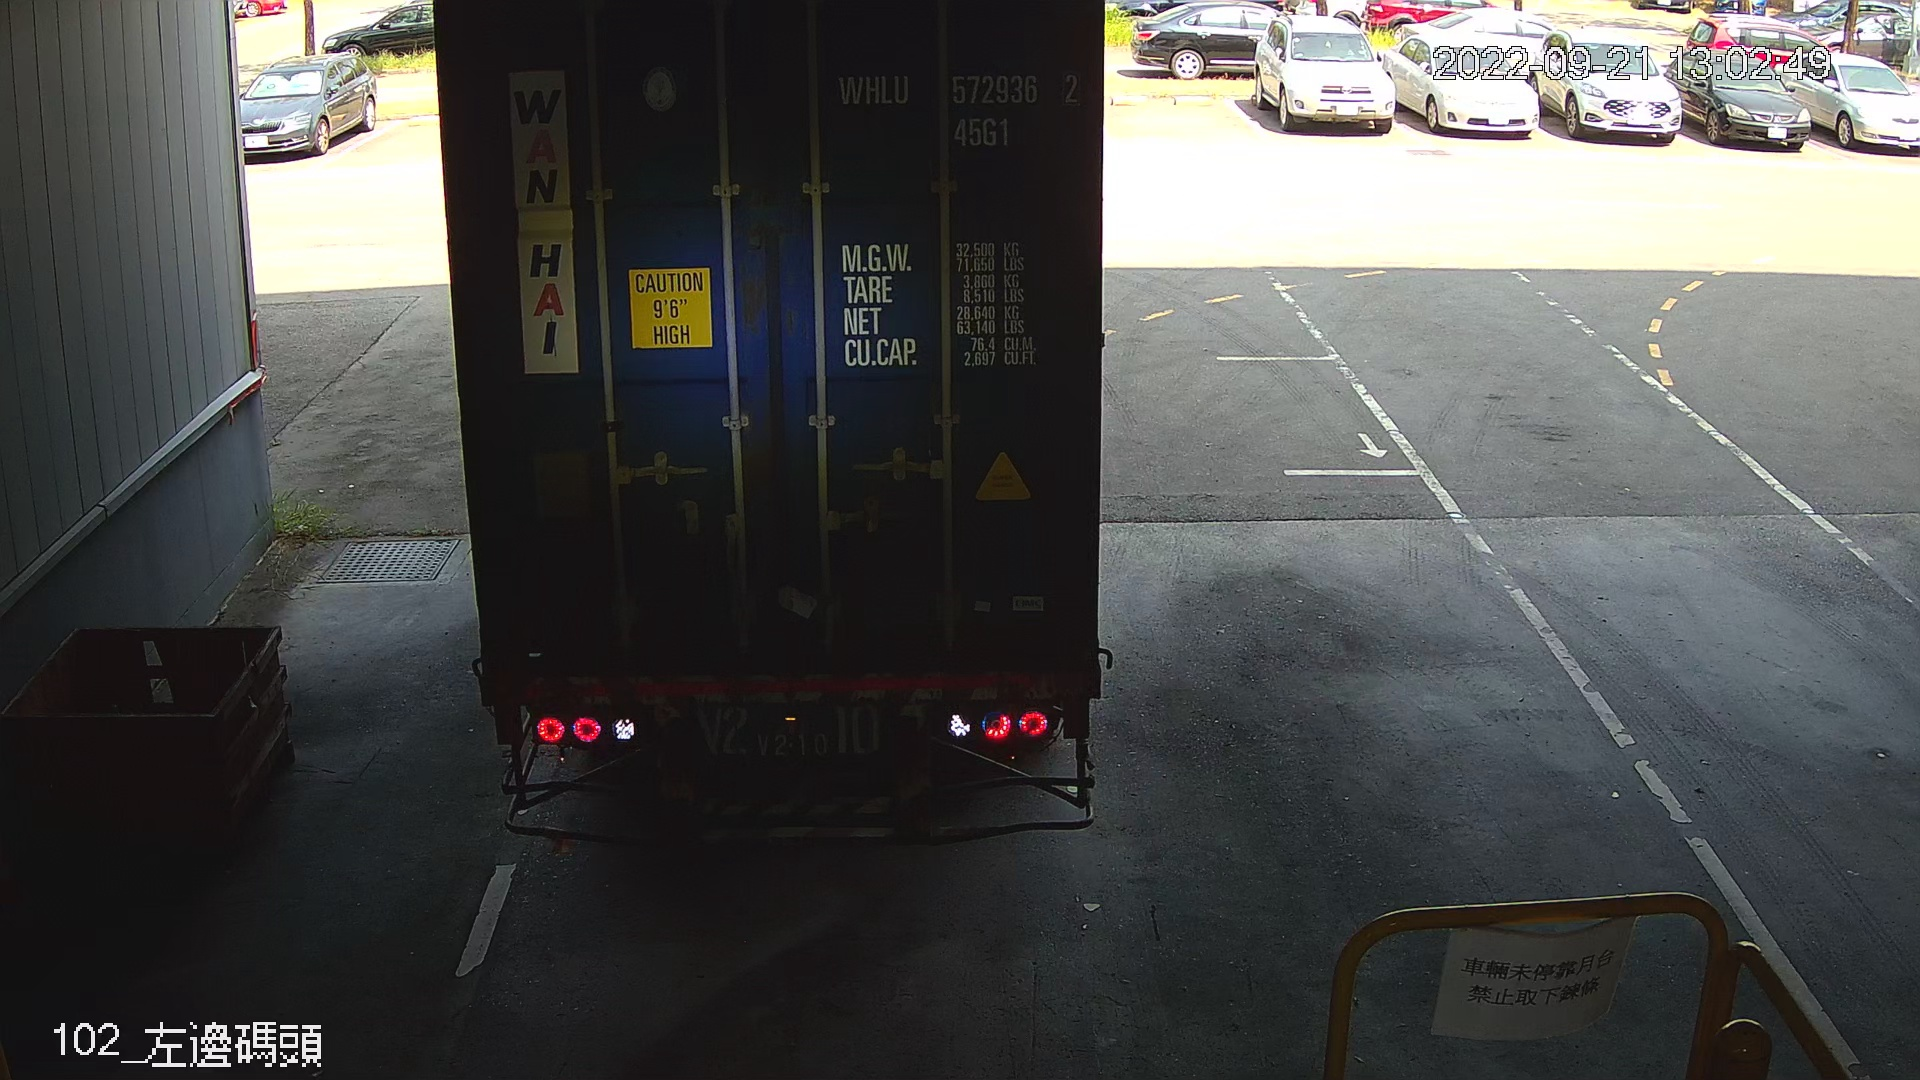container: (825, 63, 1089, 156)
